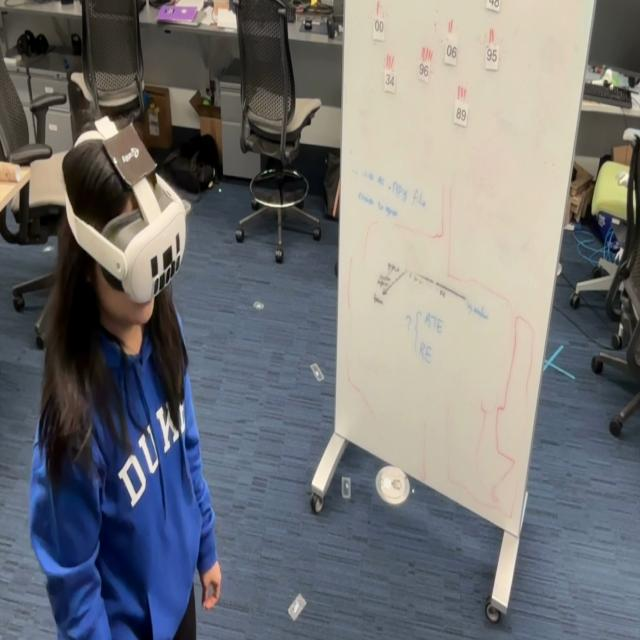Headset: (62, 121, 191, 305)
UnityLogo: (100, 118, 160, 194)
